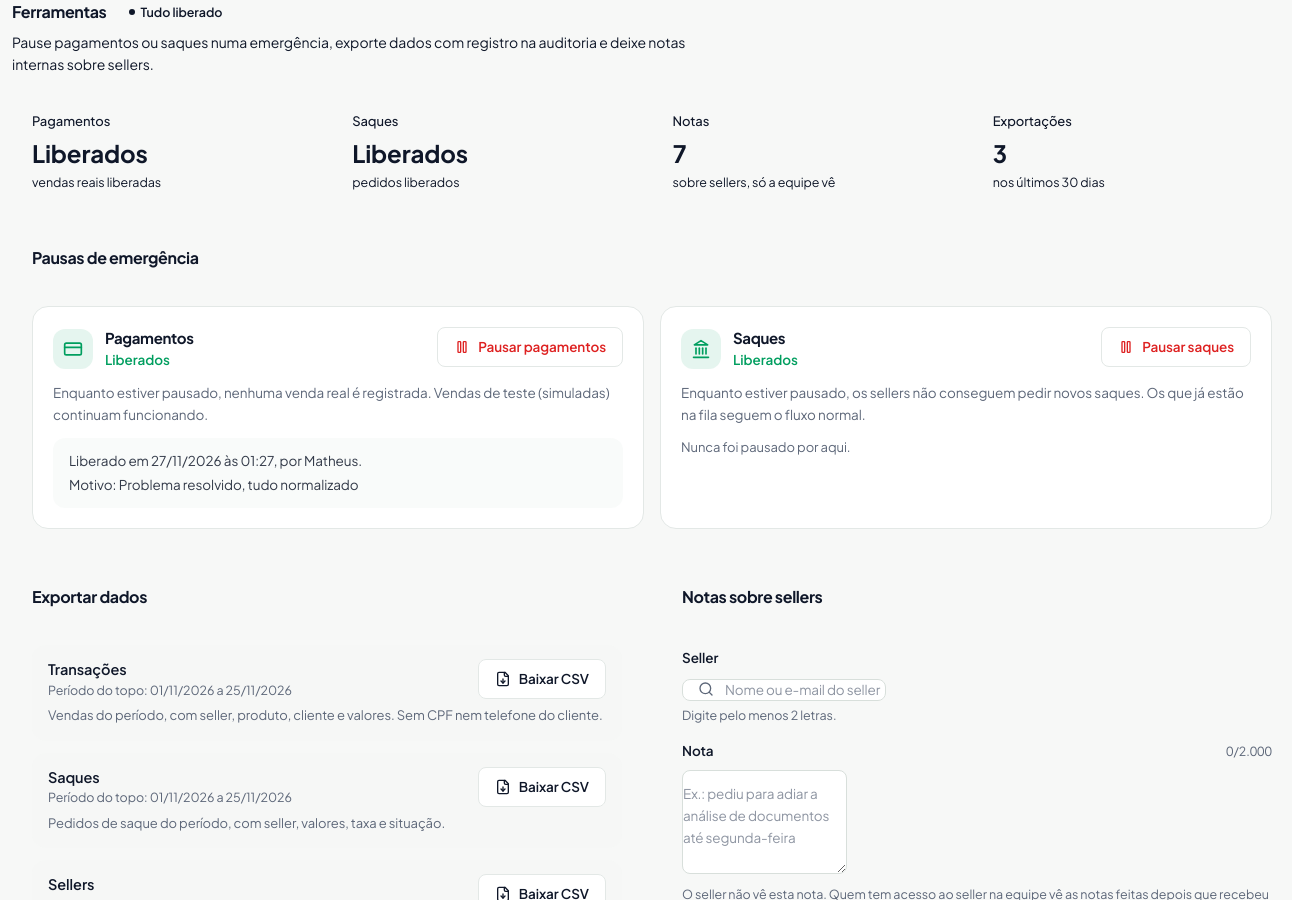
Test: notas sobre sellers › salva a nota do seller escolhido e atualiza a lista e os números
expect the element "Pagamentos" is shown: met, box [32,306,644,529]
Type "mar" into the field with placeholder "Nome ou e-mail do seller" at (784, 690), box [682,679,886,701]
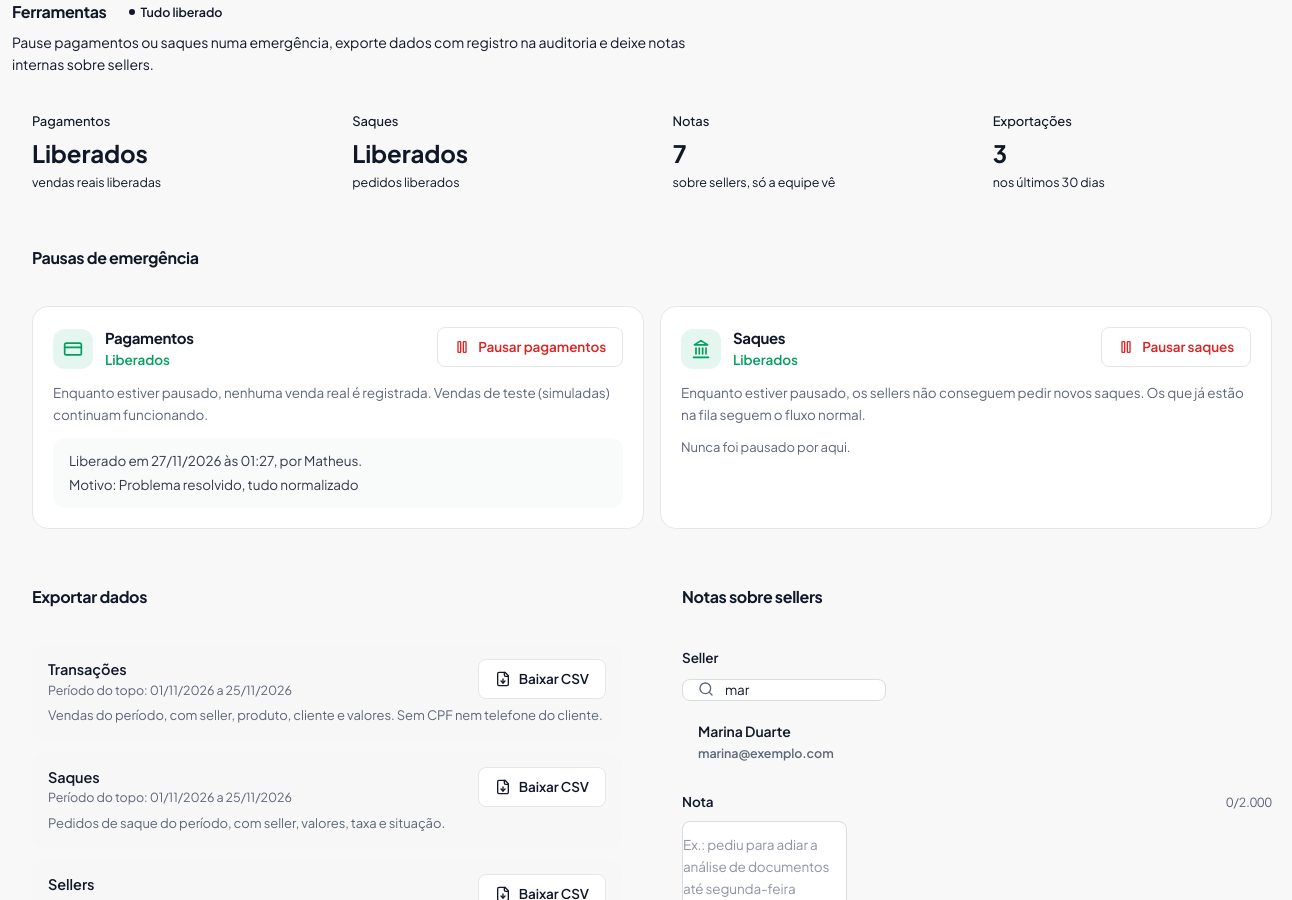
Click the button "Marina Duarte marina@exemplo.com" at (744, 731), box [682,709,1268,775]
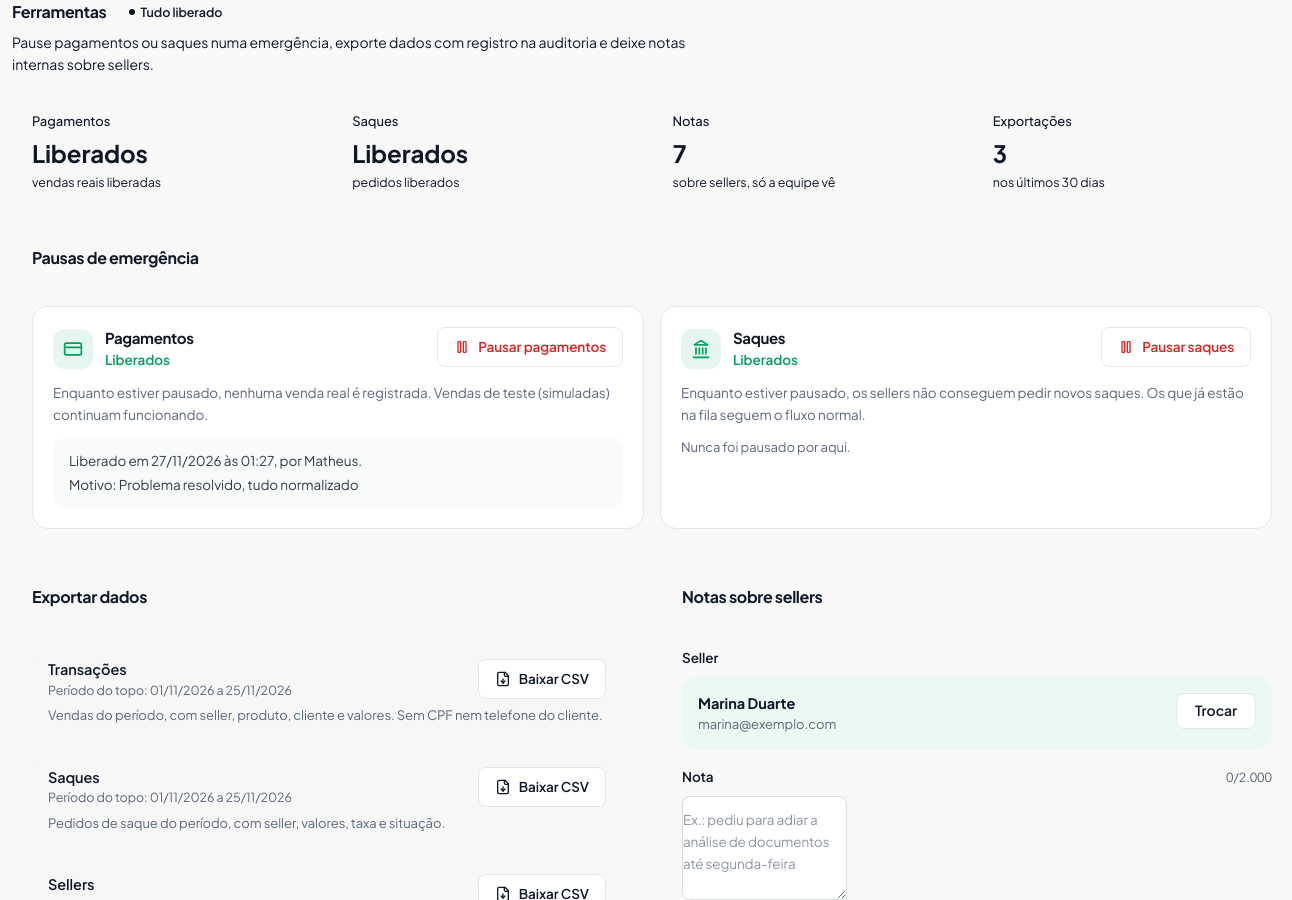
Replace the text in the text box labelled "Nota" with "  Combinou prazo novo para os documentos  " at (764, 848), box [682,796,847,899]
(page scrolled)
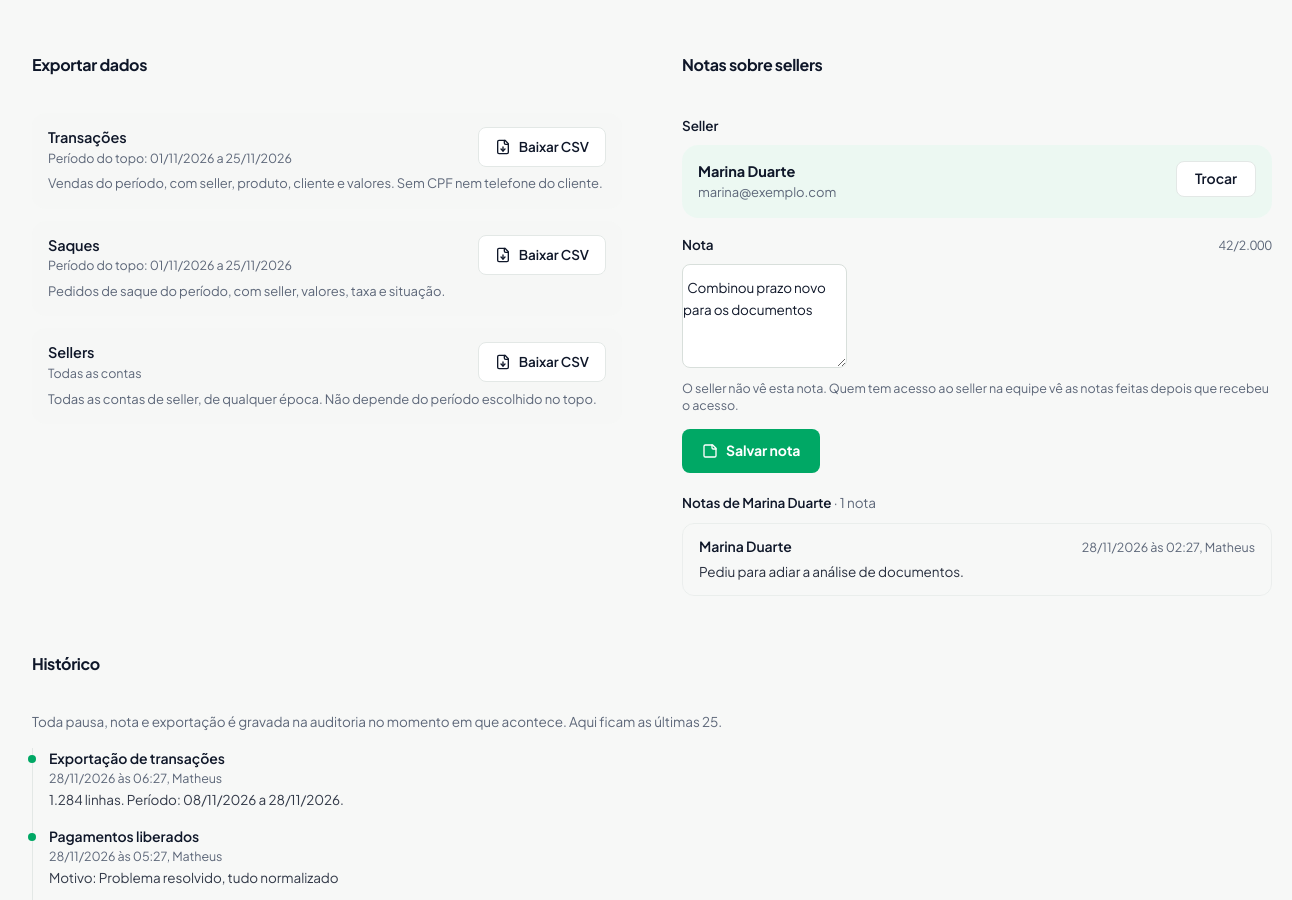
expect the text "42/2.000" is shown: met, box [1218,236,1272,255]
Click the button "Salvar nota" at (751, 450), box [682,428,820,472]
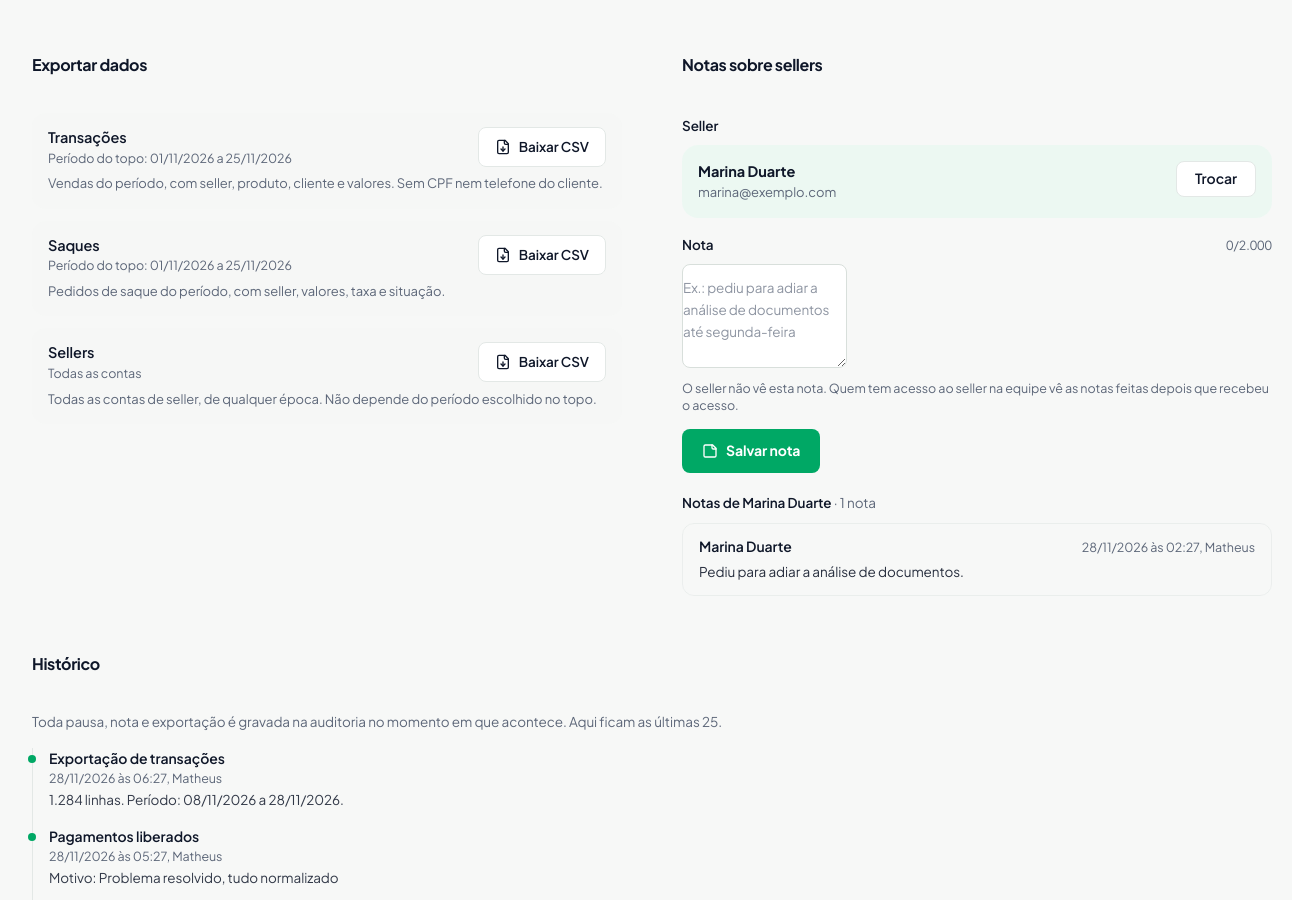
expect the text box labelled "Nota" is empty: met, box [682,264,847,368]
